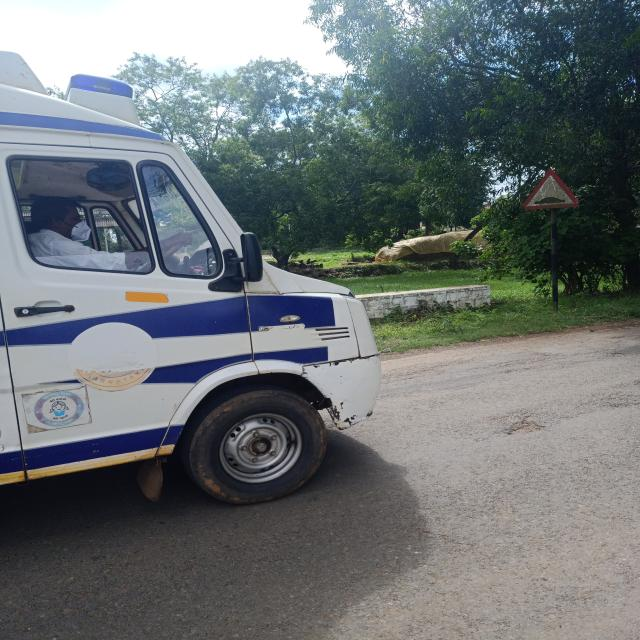Traveller: (0, 52, 380, 502)
